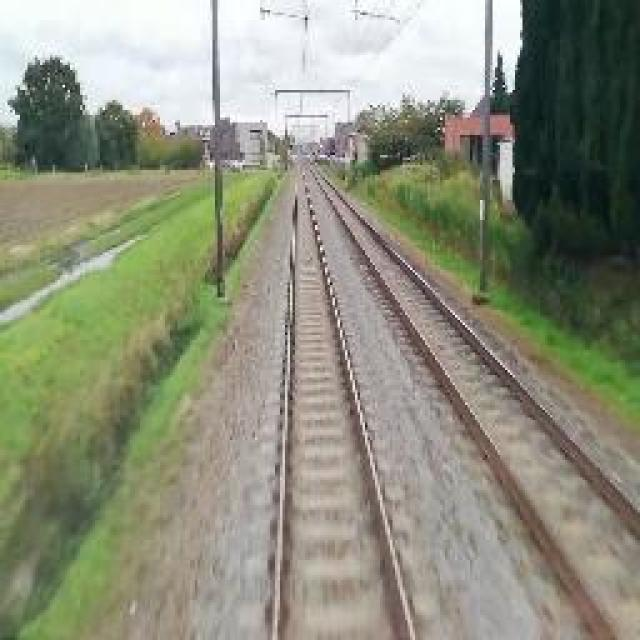rail: (231, 165, 454, 640)
